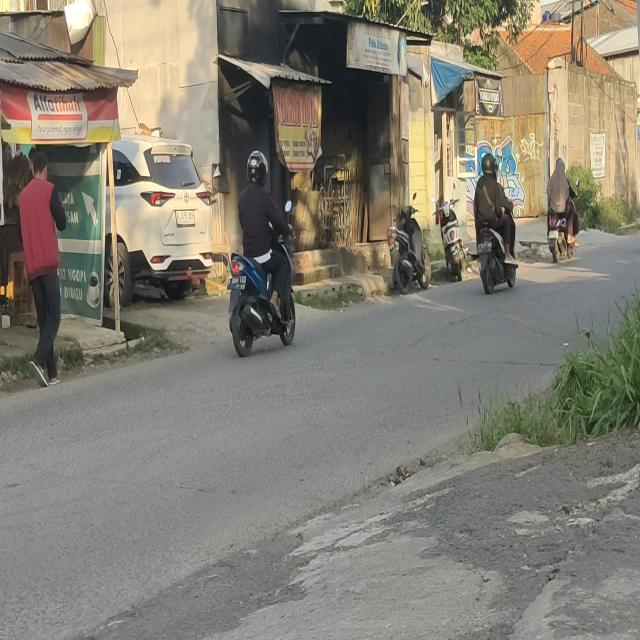helmet: (247, 151, 269, 186), (482, 152, 498, 178)
no-helmet: (556, 158, 566, 173)
